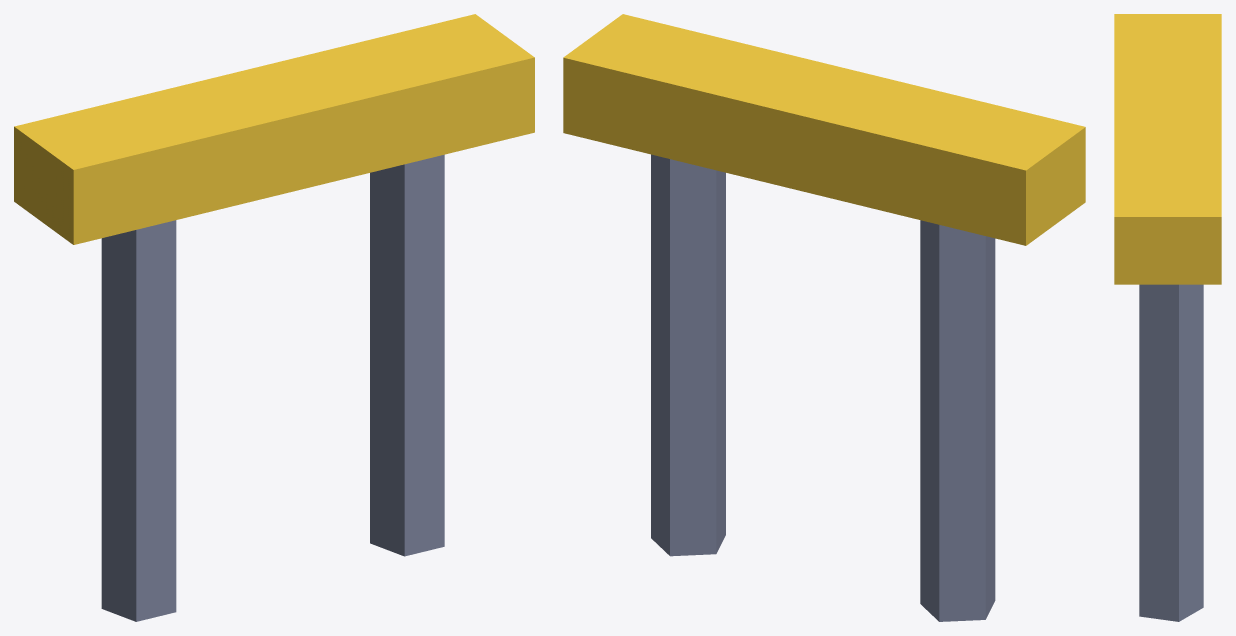
Rendered from Lever.fbx.
3 renders of one model, left to right at view 1: azimuth 30°, elevation 25°; view 2: azimuth 150°, elevation 25°; view 3: azimuth 270°, elevation 25°, orthographic. The views are drawn at different scales.
Visible parts, largest first — view 1: Cube; view 2: Cube; view 3: Cube.
Boxes of the visible parts, left/top/right/bottom form: Cube: left=14, top=14, right=534, bottom=621; Cube: left=563, top=14, right=1085, bottom=621; Cube: left=1114, top=14, right=1221, bottom=621.
Size of the model in its own units: 897 by 200 by 893.
